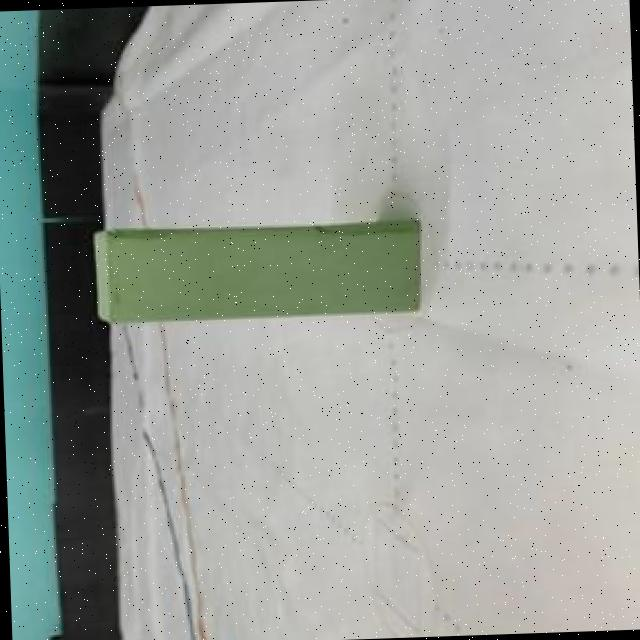greenbox: (87, 215, 424, 326)
